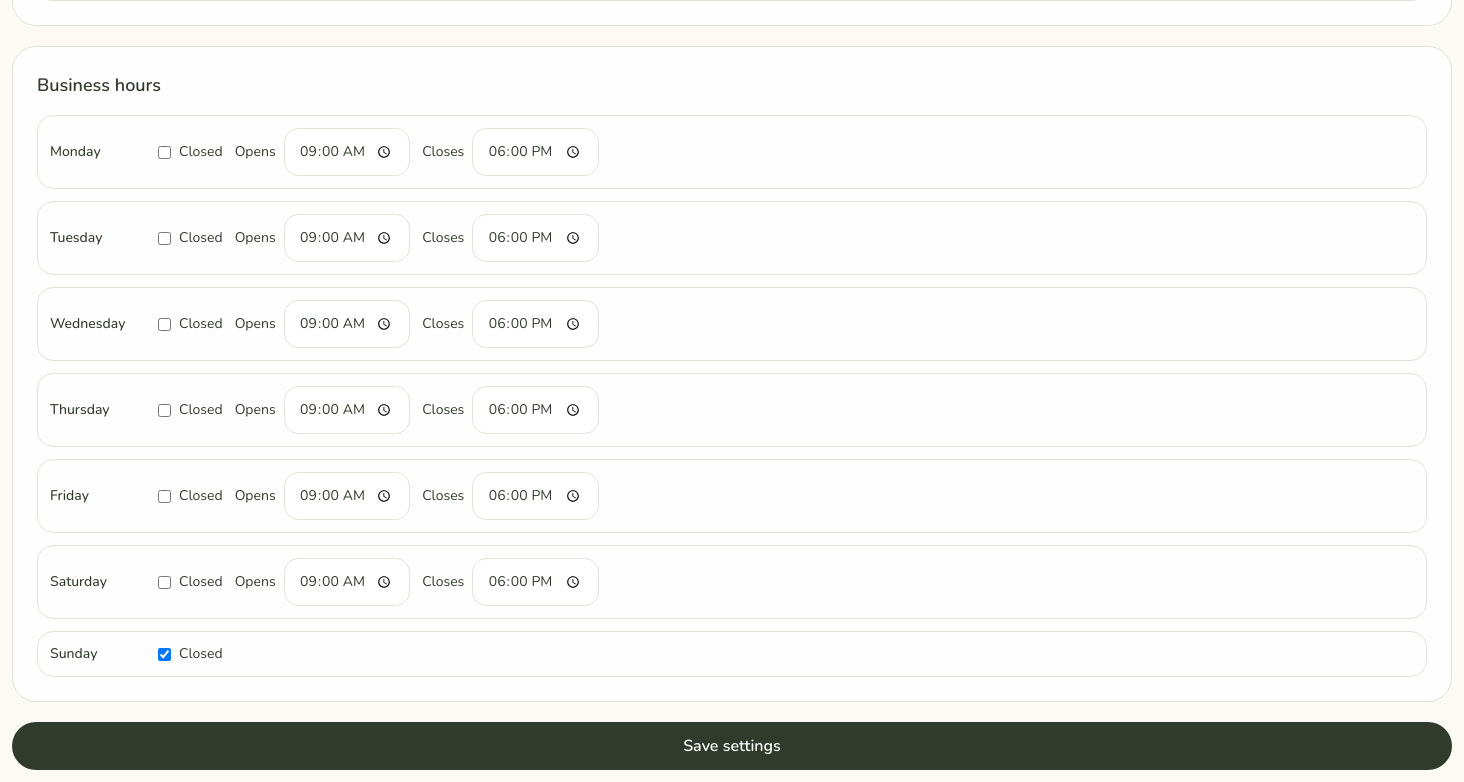
Scenario: AdminSettingsForm › saves the form with idempotency and CSRF headers
(page scrolled)
Click the button "Save settings". click: (732, 746)
box: [12,722,1452,770]
(page scrolled)
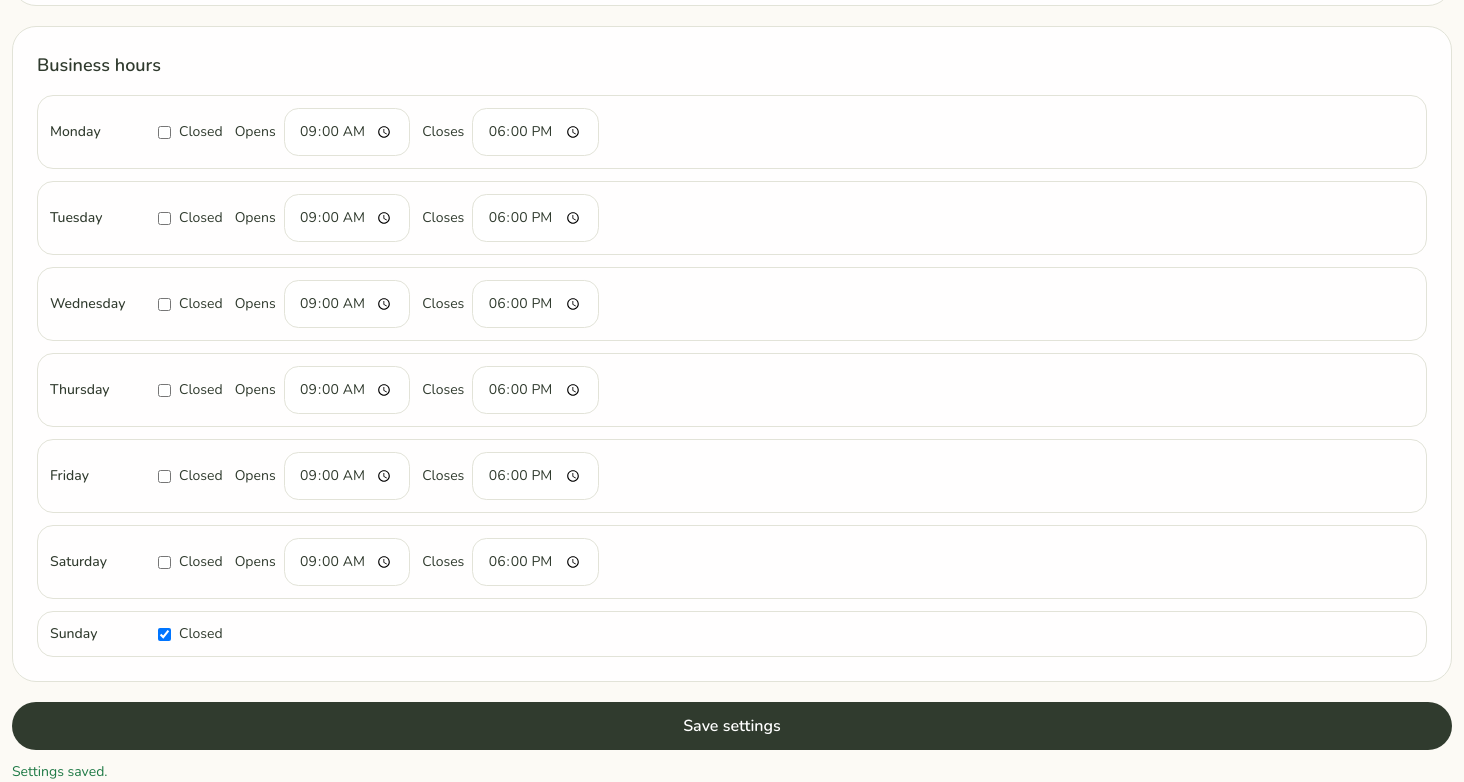
Check: the text "Settings saved." is shown, box [12,762,108,781]
